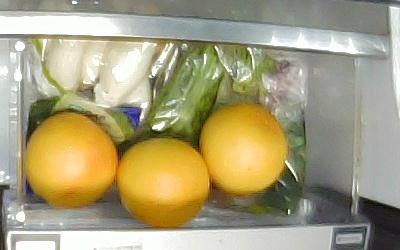grapefruit: (24, 113, 118, 207), (116, 137, 210, 226), (197, 105, 288, 191)
